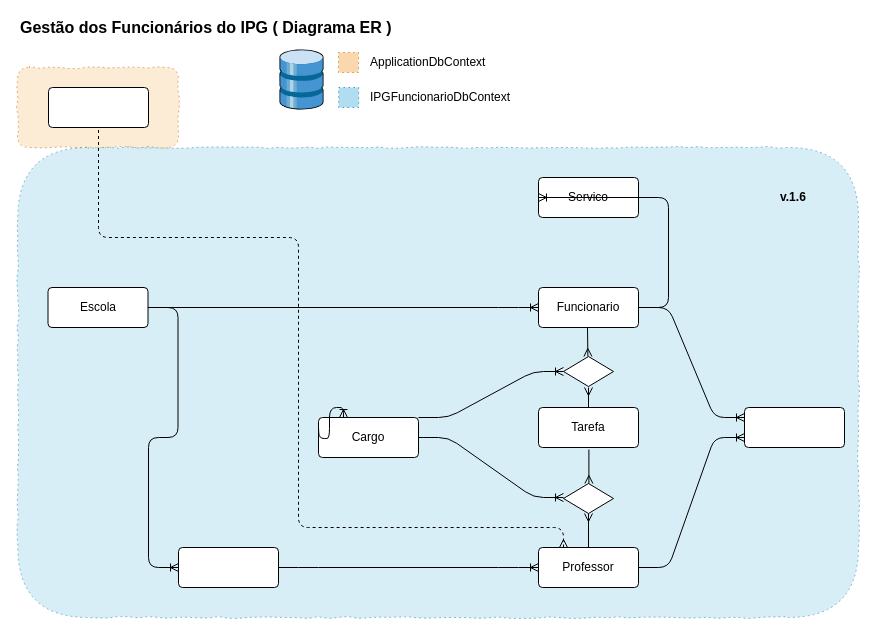
Some shapes in this 876 by 635 pixel diagram are drawn without their labels. Here are the shapes that lost their labels. From the top down, the centre of each, then its label:
pixel 98 107: Autenticacao
pixel 794 427: Ferias
pixel 228 567: Departamento
